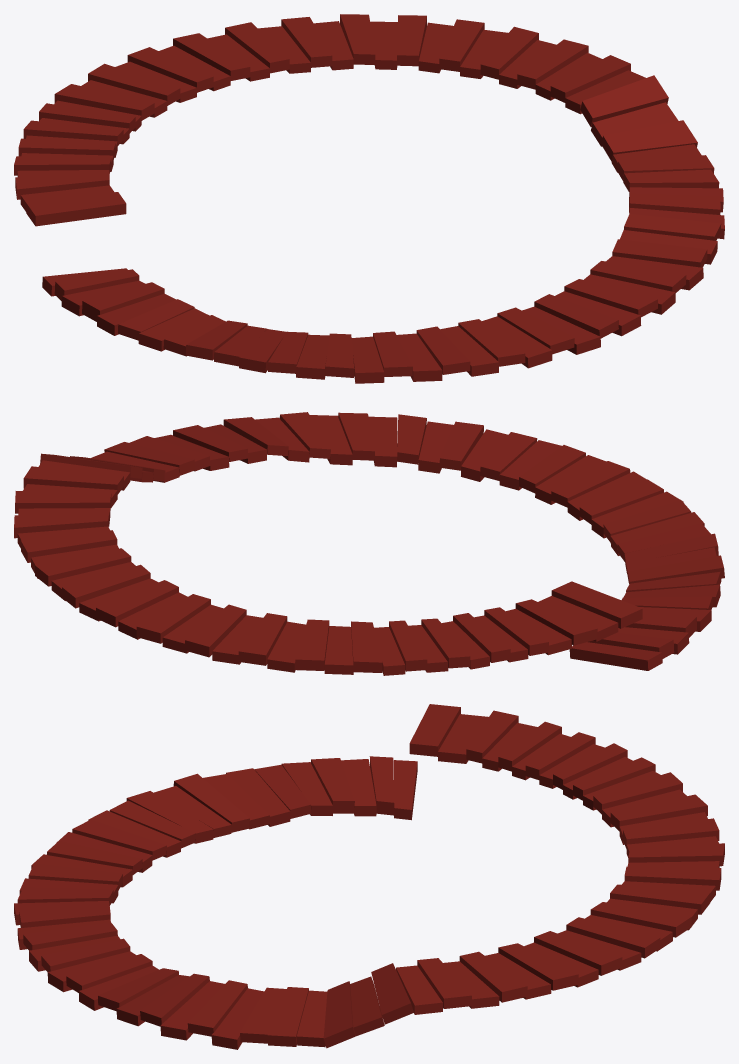
The picture shows the model from 3 angles, top to bottom: view 1: azimuth 30°, elevation 25°; view 2: azimuth 150°, elevation 25°; view 3: azimuth 270°, elevation 25°; orthographic projection.
Parts seen in each view (by area): view 1: Dock_farm Farm_Island; view 2: Dock_farm Farm_Island; view 3: Dock_farm Farm_Island.
Boxes of the visible parts, x1,y1,x2,y2 form: Dock_farm Farm_Island: (14, 14, 724, 383); Dock_farm Farm_Island: (14, 412, 724, 675); Dock_farm Farm_Island: (14, 704, 724, 1049).
Size of the model in its own units: 39.61 by 4.7 by 39.64.
